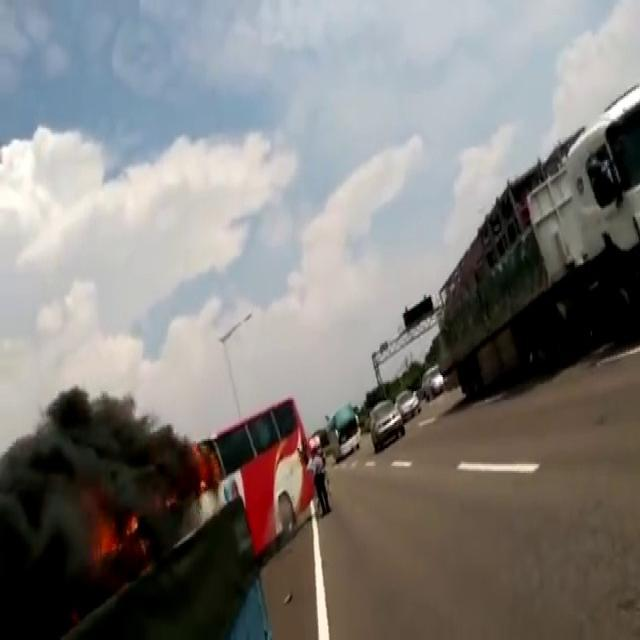Smoke: (0, 357, 191, 587)
